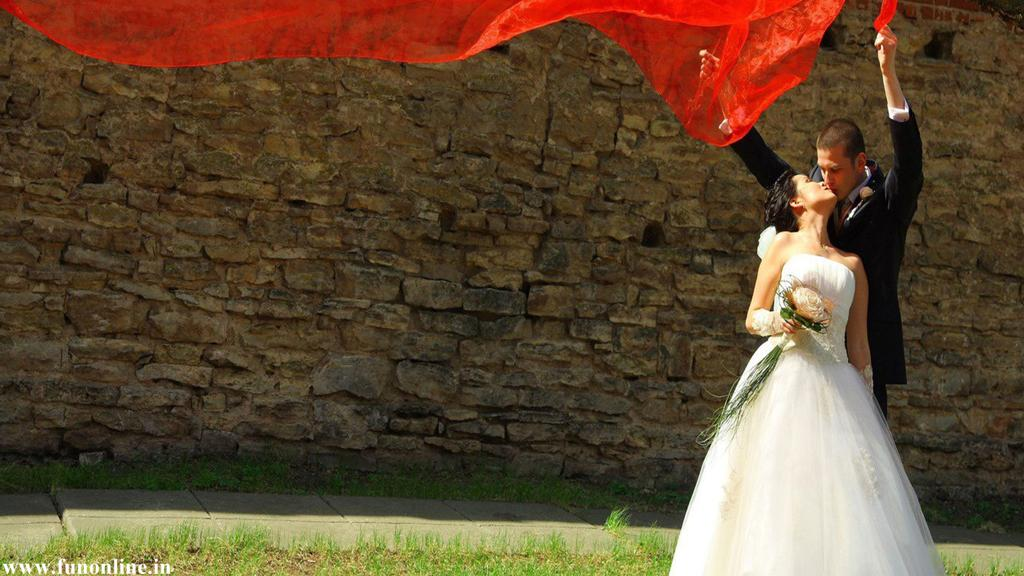face: (816, 144, 855, 200), (794, 173, 838, 201)
